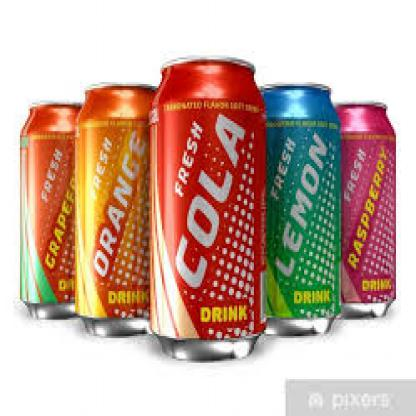METAL: (147, 60, 264, 360), (74, 82, 168, 336), (259, 80, 337, 336), (332, 98, 394, 318), (18, 98, 77, 316)
